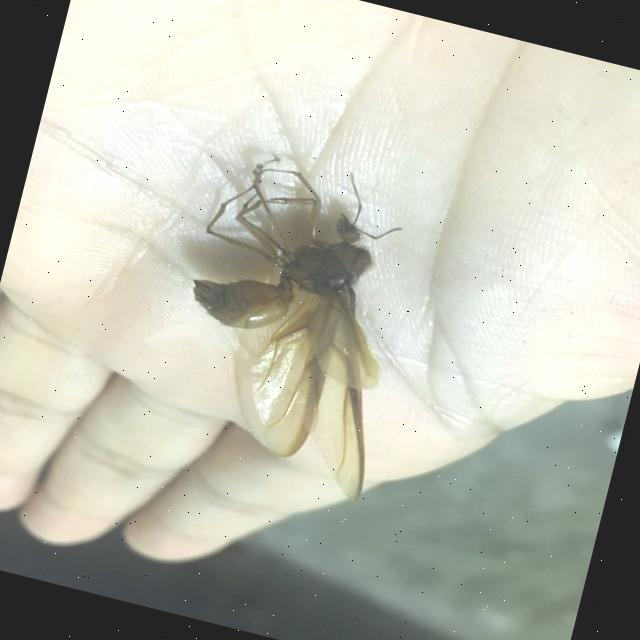Dead-Male-Alate: (149, 141, 436, 504)
